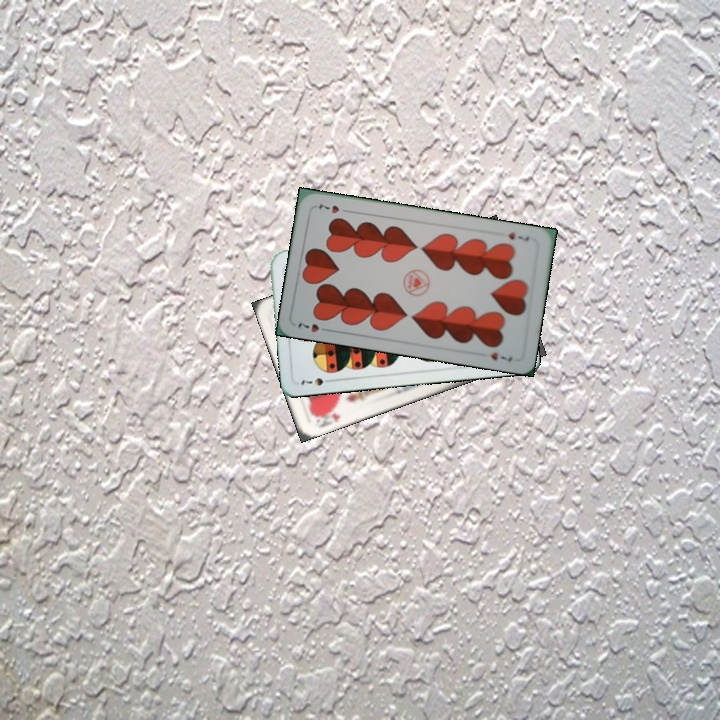H7: (294, 318, 333, 335), (504, 228, 532, 244)
HK: (311, 405, 343, 430)
S7: (297, 374, 336, 388)
